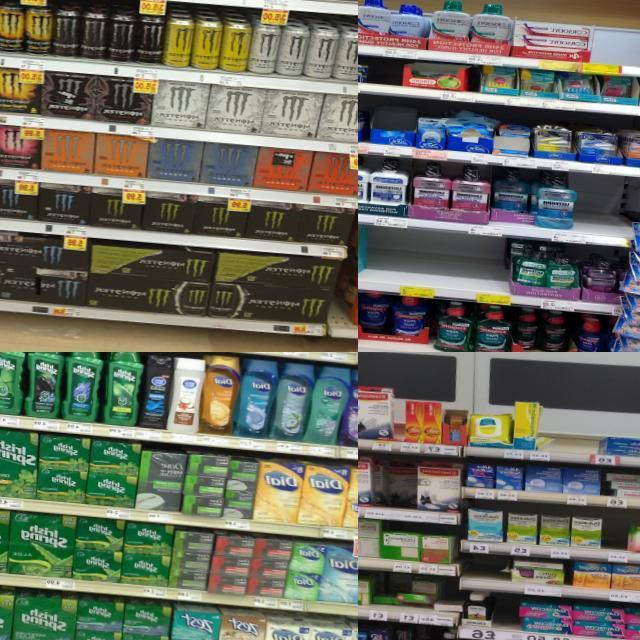Imprecise: (490, 167, 532, 229), (370, 464, 418, 514), (362, 292, 394, 348), (398, 576, 439, 608), (606, 470, 640, 498), (432, 600, 464, 614), (372, 592, 399, 606)
